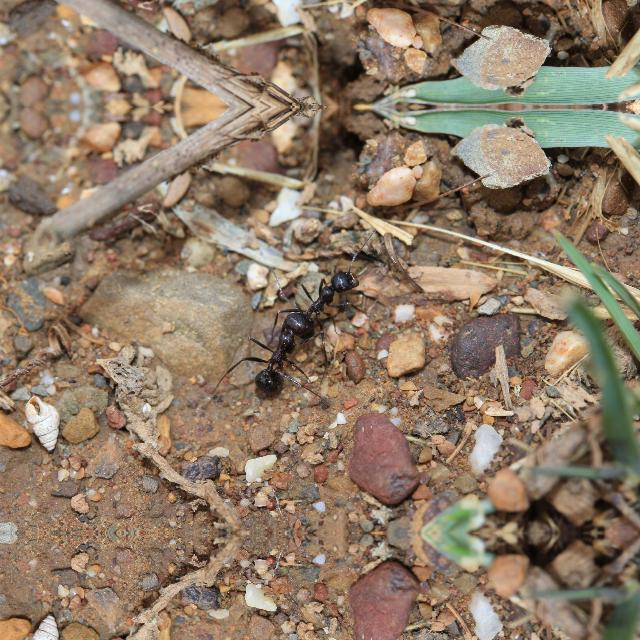Messor: (287, 256, 369, 336), (255, 298, 318, 396)
